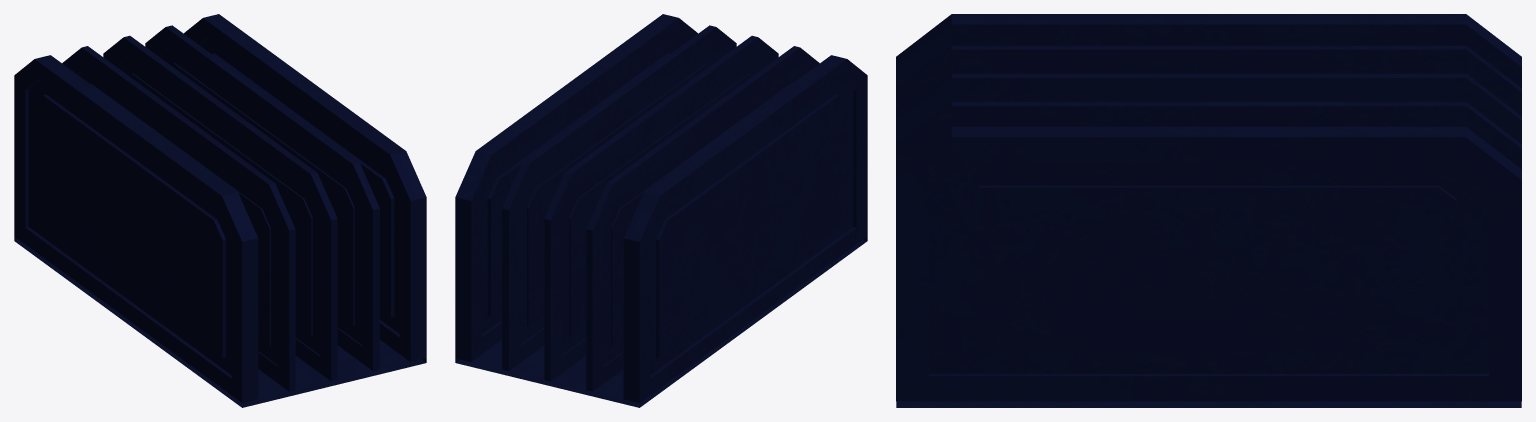
The model's file is Final_Rack big metalsheets.glb.
The picture shows the model from 3 angles, left to right: view 1: azimuth 30°, elevation 25°; view 2: azimuth 150°, elevation 25°; view 3: azimuth 270°, elevation 25°; orthographic projection. The views are drawn at different scales.
Visible parts, largest first — view 1: Kubus; view 2: Kubus; view 3: Kubus.
Boxes of the visible parts, box(x1,y1,x2,y2) form: Kubus: box(14, 14, 426, 407); Kubus: box(455, 14, 867, 407); Kubus: box(896, 14, 1521, 407).
Bounding box in the file's own units: 16.05 × 16.39 × 34.37.
1 material, 1 textured.
